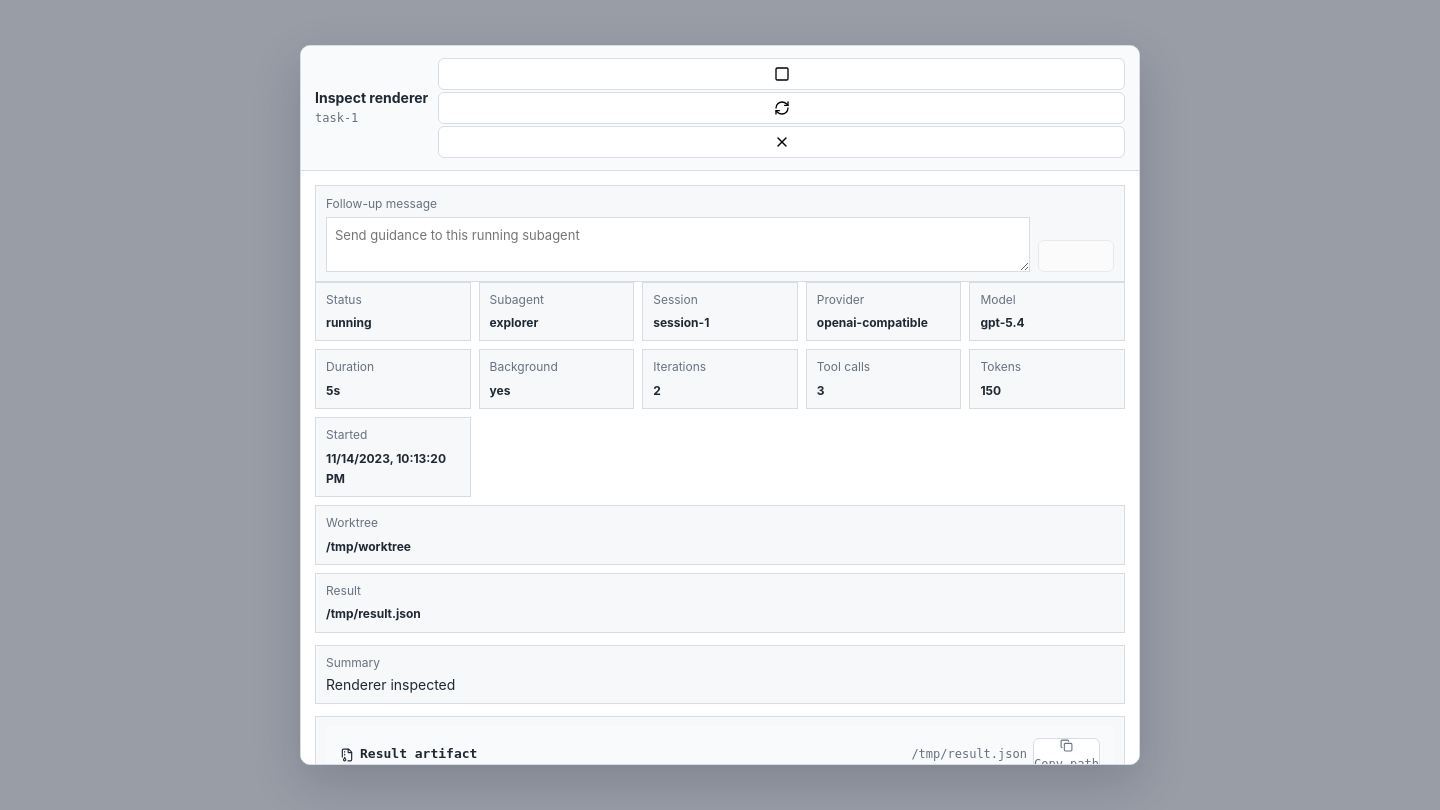
Test: TaskDetailDialog › queues a follow-up message for running tasks and refreshes message history
In the text box named "Task follow-up message": (678, 245) [326,217,1030,272], type "please inspect auth"
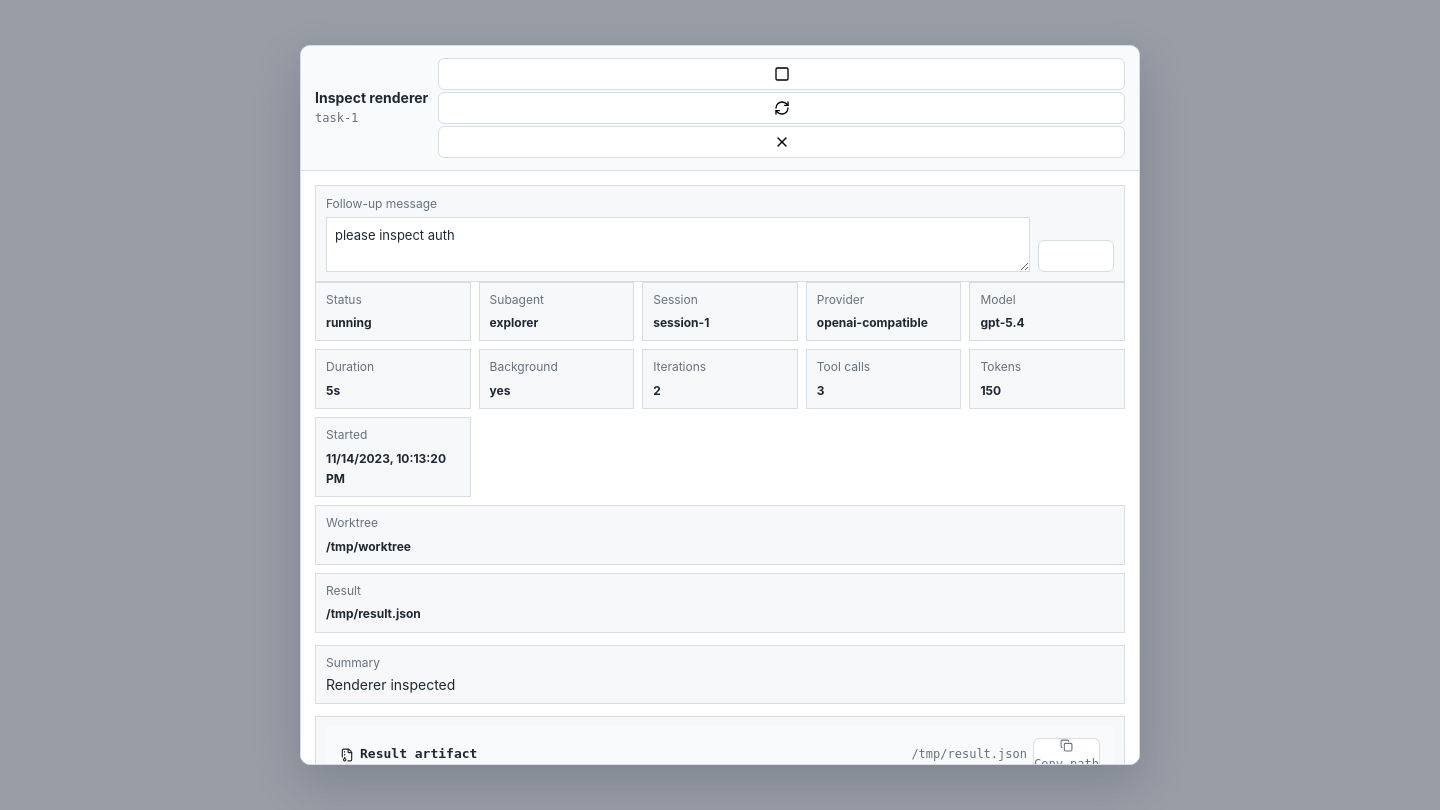
Click the button with aria-label "Send task message": (1076, 256) [1038,240,1114,272]
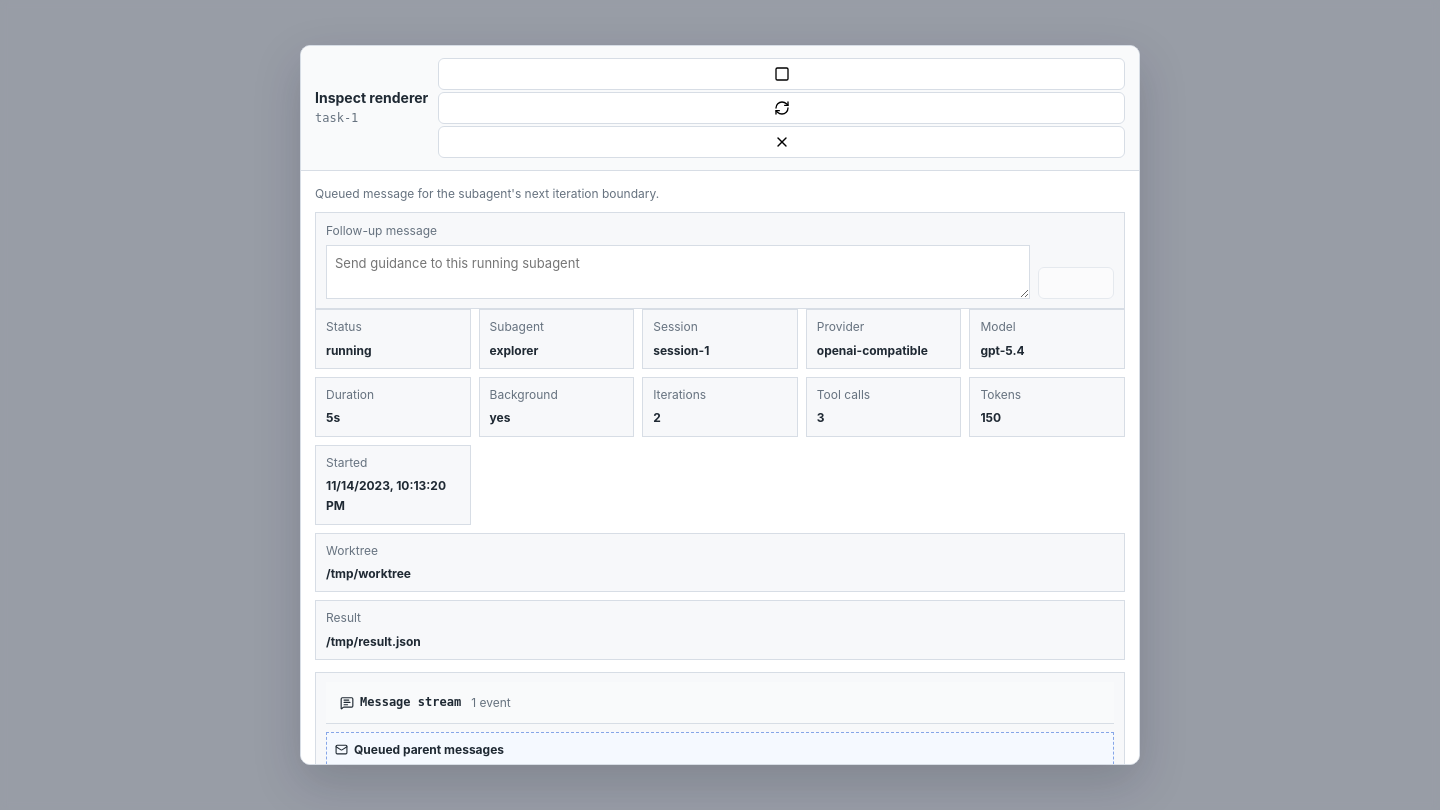
expect the text "Queued message for the subagent's next iteration boundary." is shown: met, box [315,186,659,201]
expect the text box named "Task follow-up message" is empty: met, box [326,245,1030,299]
